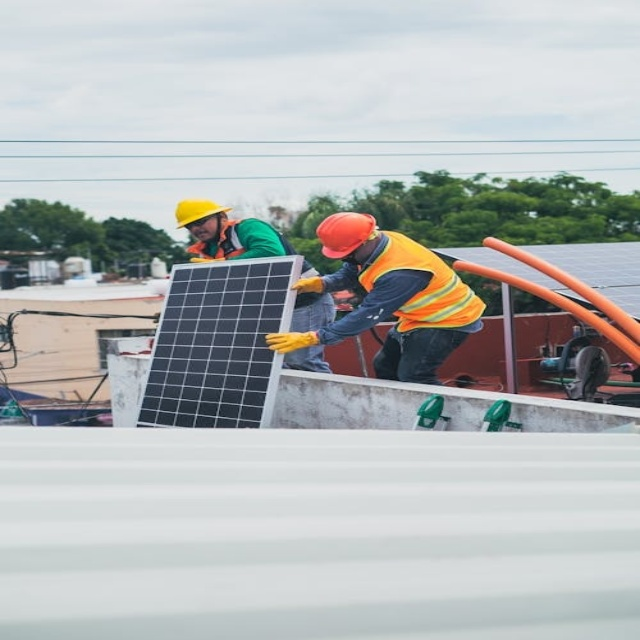Gafas: (182, 211, 219, 230)
Guantes: (264, 330, 318, 354), (290, 276, 324, 294), (189, 257, 220, 263)
Sin_mascara: (188, 227, 210, 241)
